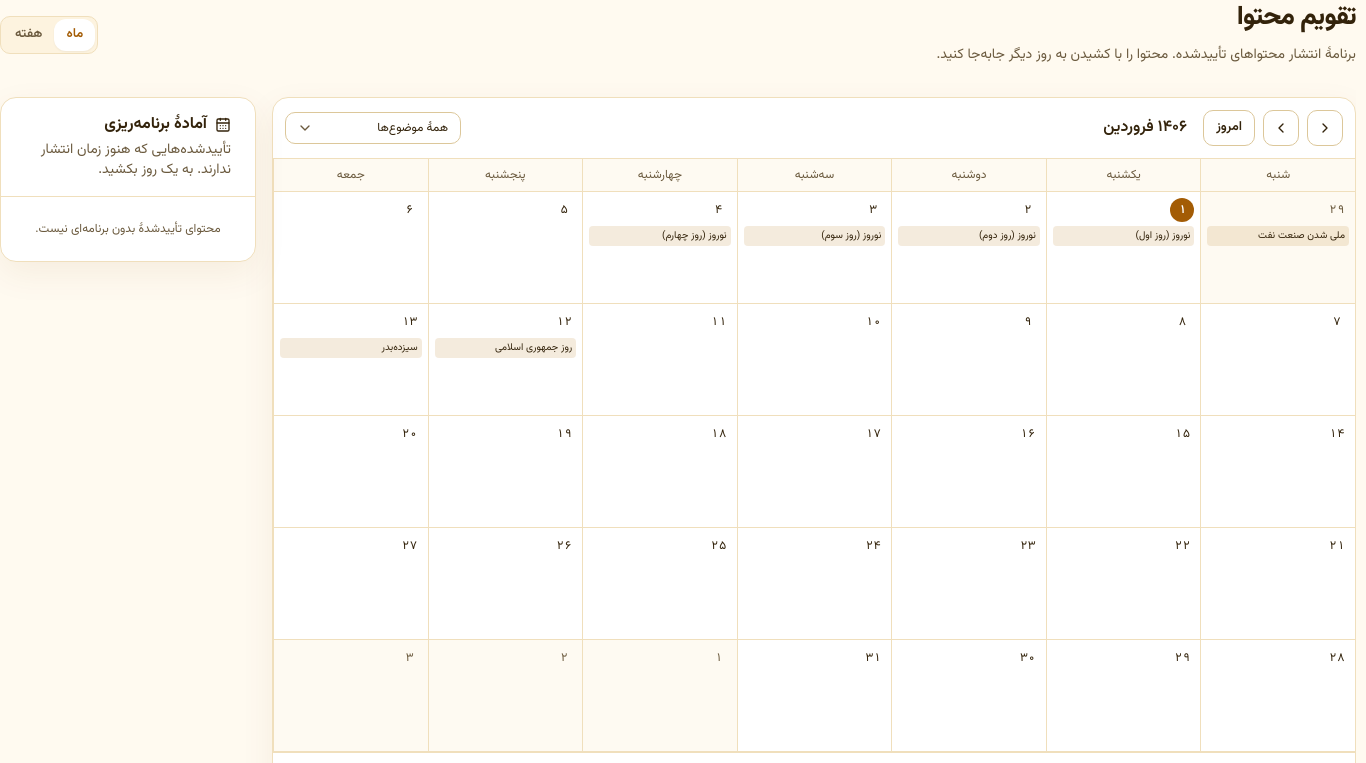
CalendarView › shows the occasions of the month and offers ideas for one
The image size is (1366, 763).
Click the button with test id "occasion-chip" showing "نوروز (روز اول)". click: click(1124, 236)
box: [1053,226,1194,246]
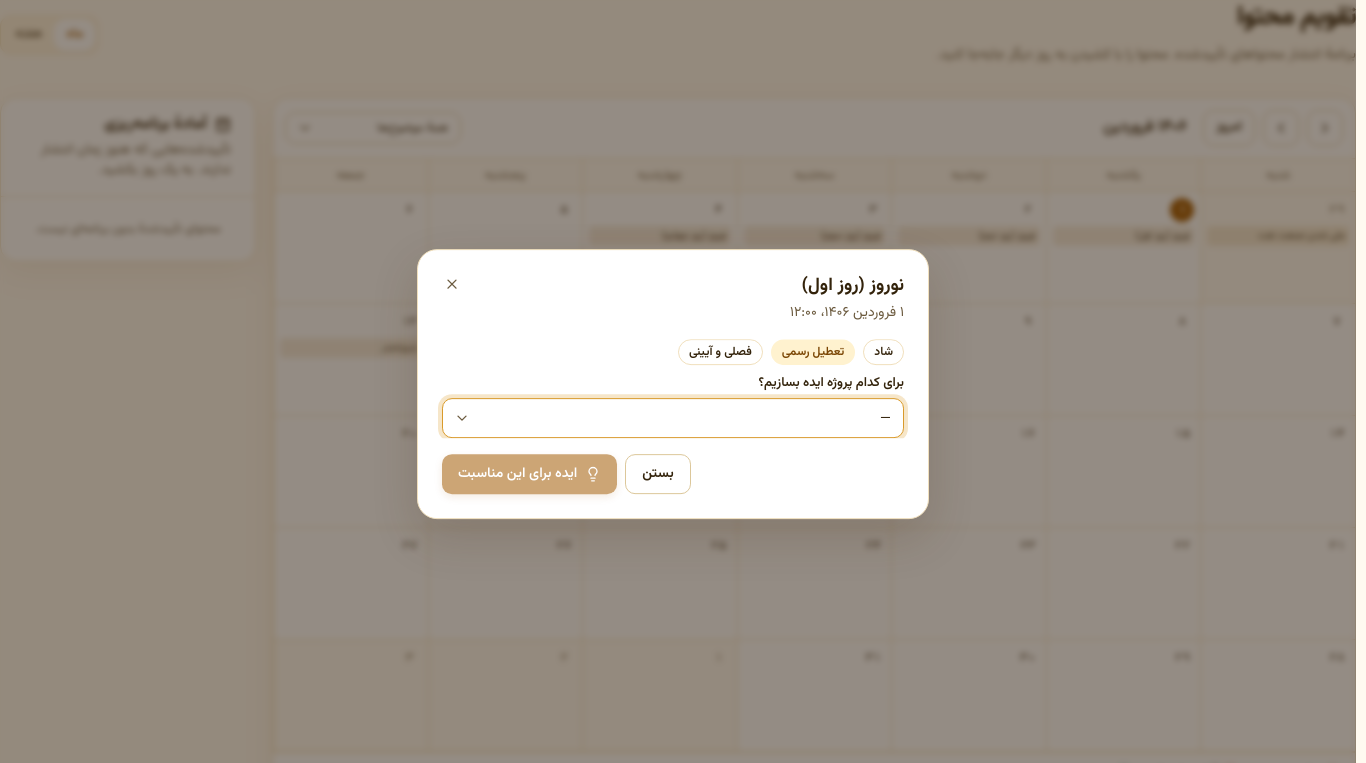
Check: the button "ایده برای این مناسبت" is shown, box [442,454,617,494]
